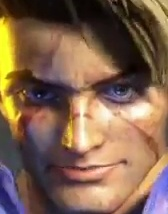kevin: (6, 15, 162, 213)
